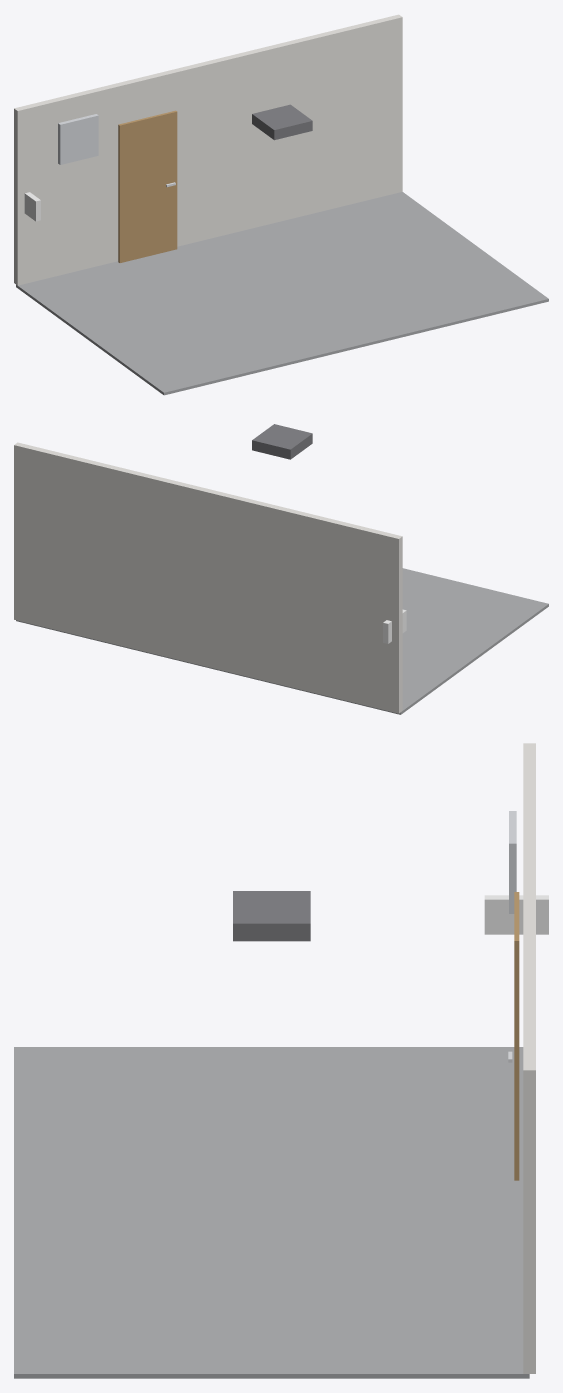
Rendered from hinged-door.glb.
3 views of the same model, one above another, from view 1: azimuth 30°, elevation 25°; view 2: azimuth 150°, elevation 25°; view 3: azimuth 270°, elevation 25° (orthographic). The views are drawn at different scales.
Visible parts, largest first — view 1: Wall_Back, Floor, Door_Leaf, Fan_Bathroom, Lamp_Ceiling; view 2: Wall_Back, Floor, Lamp_Ceiling; view 3: Floor, Wall_Back, Lamp_Ceiling, Sensor_Panel, Door_Leaf, Fan_Bathroom.
Part boxes in pixels (x1=…): Wall_Back: x1=14, y1=14, x2=402, y2=285; Floor: x1=16, y1=192, x2=548, y2=395; Door_Leaf: x1=118, y1=110, x2=177, y2=262; Fan_Bathroom: x1=58, y1=114, x2=98, y2=164; Lamp_Ceiling: x1=252, y1=104, x2=312, y2=140; Wall_Back: x1=14, y1=442, x2=402, y2=713; Floor: x1=16, y1=568, x2=548, y2=714; Lamp_Ceiling: x1=252, y1=424, x2=312, y2=459; Floor: x1=14, y1=1047, x2=529, y2=1378; Wall_Back: x1=523, y1=743, x2=535, y2=1373; Lamp_Ceiling: x1=233, y1=891, x2=310, y2=941; Sensor_Panel: x1=484, y1=895, x2=548, y2=934; Door_Leaf: x1=514, y1=892, x2=519, y2=1180; Fan_Bathroom: x1=509, y1=811, x2=516, y2=913.
Bounding box in the file's own units: 6 × 2.64 × 4.15.
